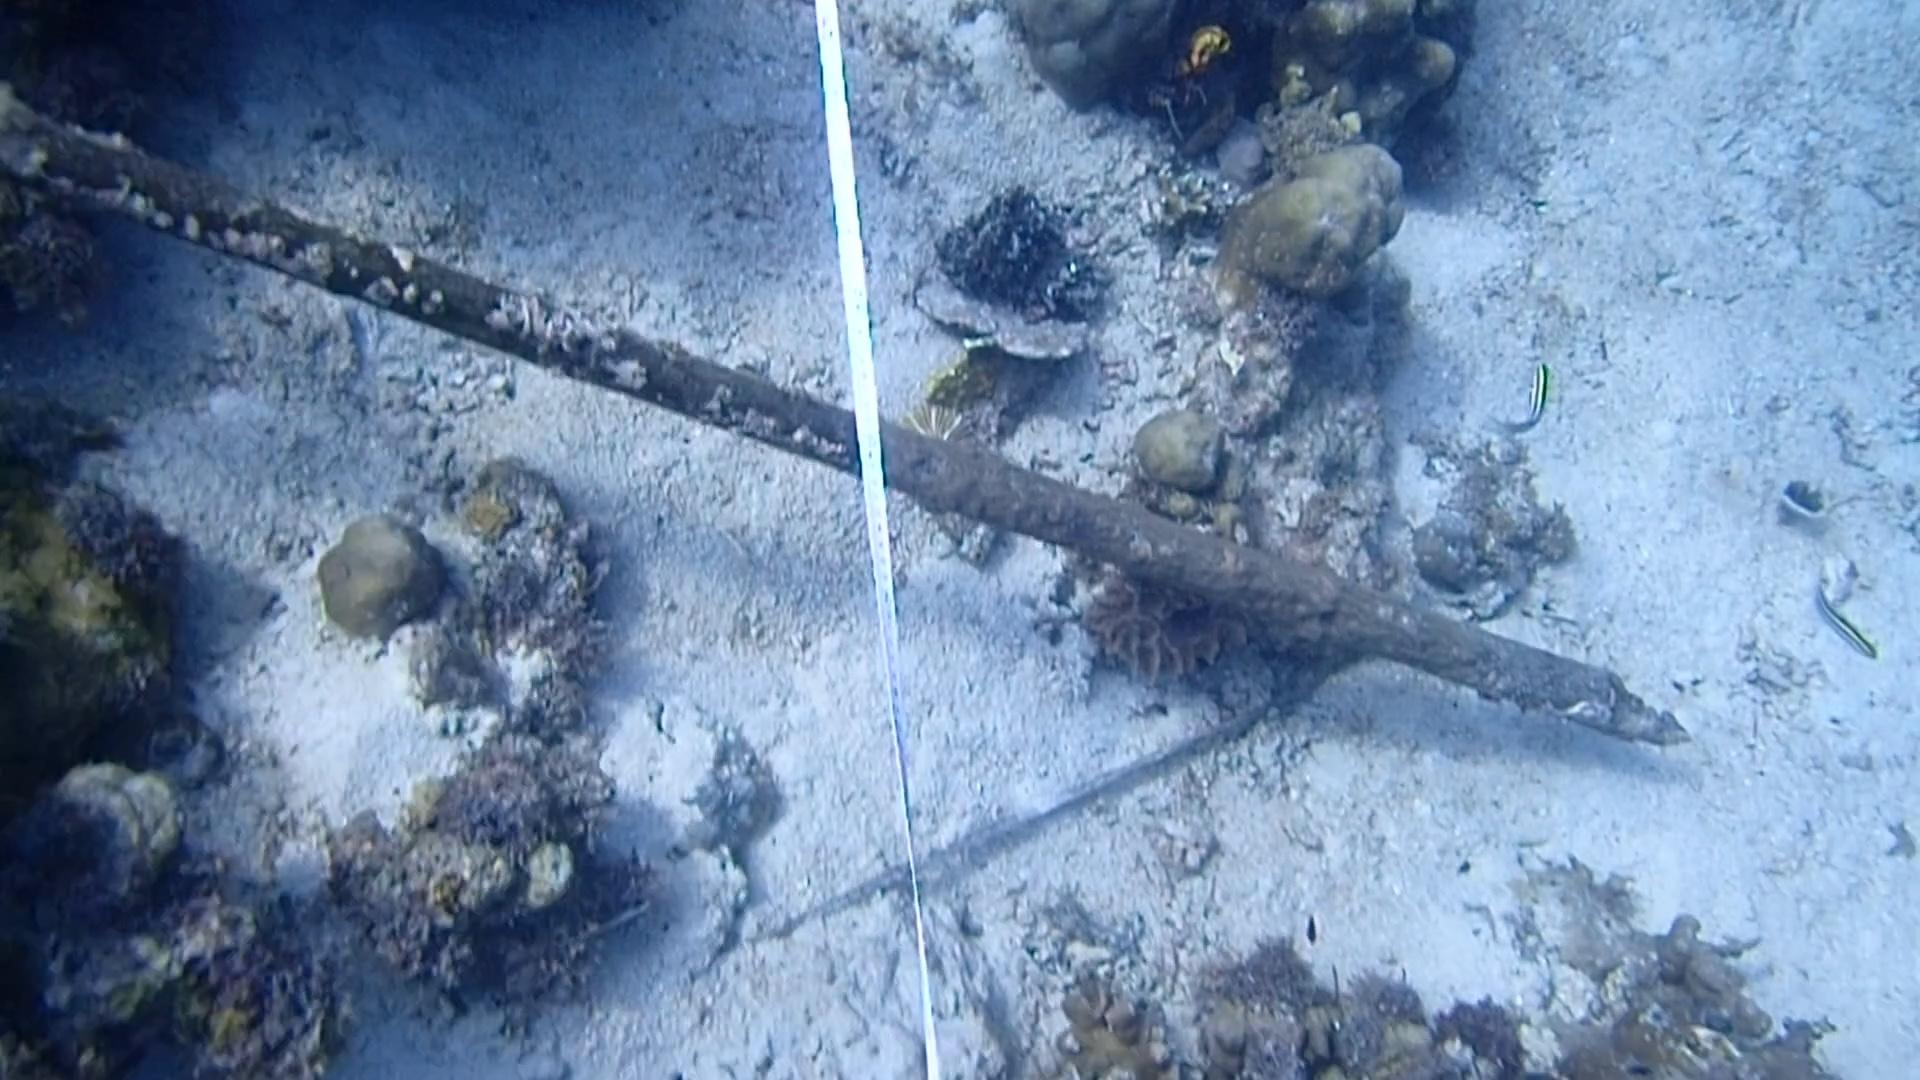Striped Fish: (1807, 566, 1884, 671), (1476, 353, 1563, 442)
